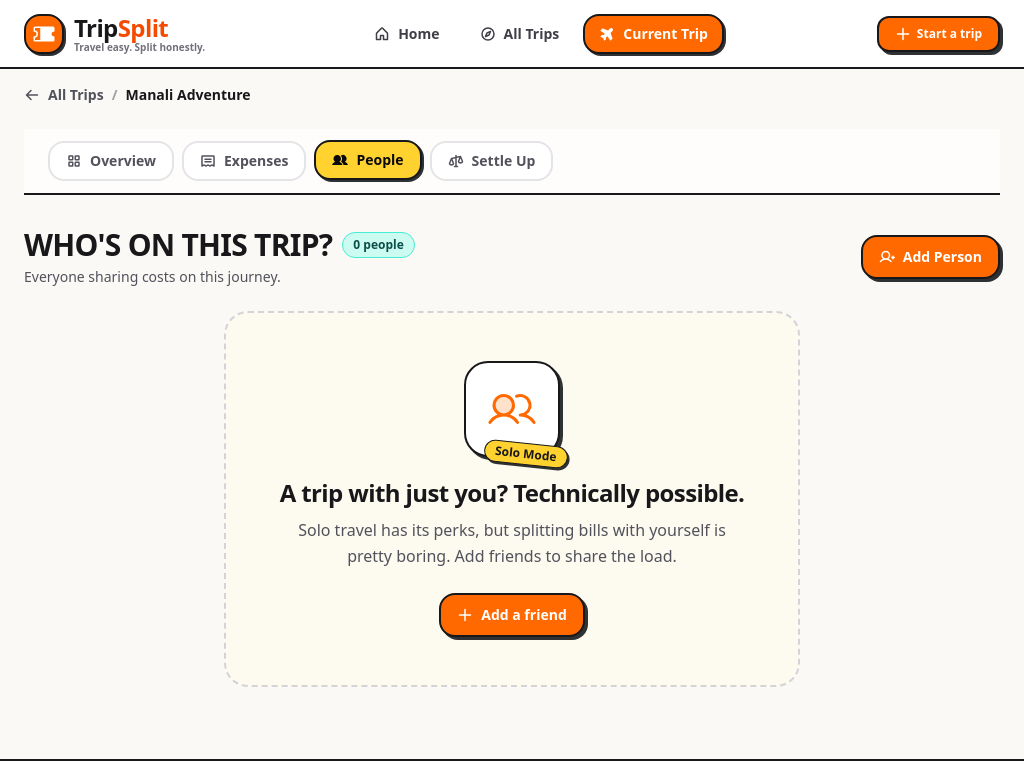
Test: People / Participant Management UI Flow › adds a participant and renders their card with balance placeholder
This screenshot has width=1024, height=768.
# Open add modal
Step 1. Click the button "Add a friend" → coordinates (512, 615), box [439, 593, 585, 637]
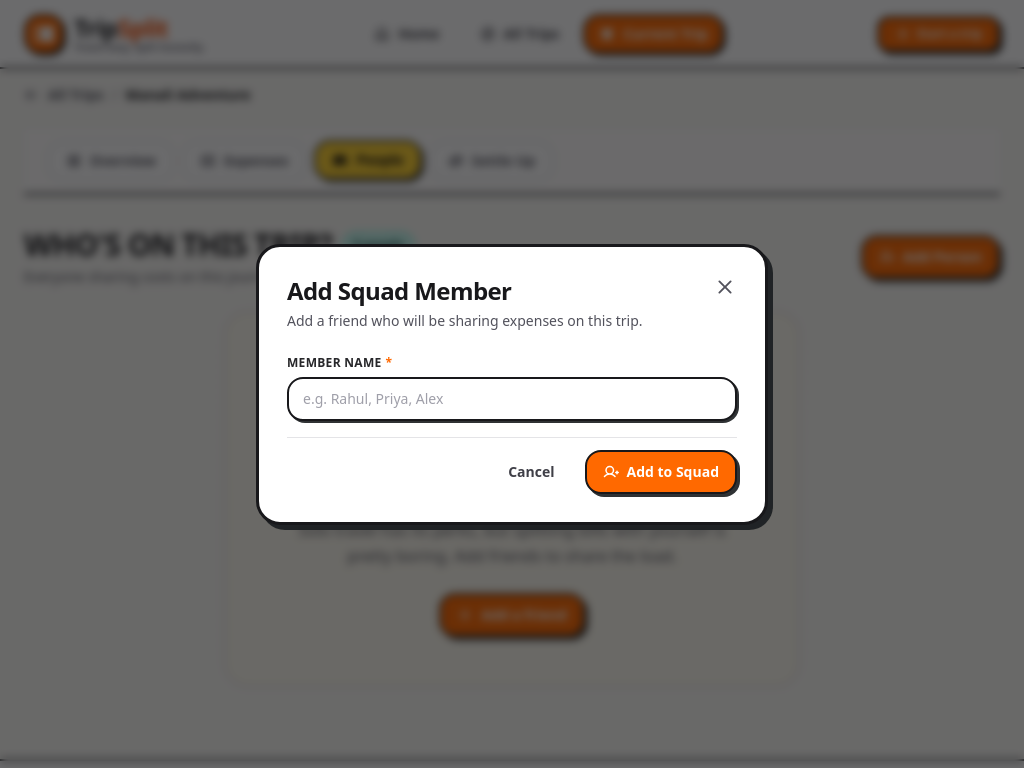
Check: the heading "Add Squad Member" is shown, box [287, 274, 511, 306]
# Enter name
Step 2. Type "Pkm" into the field labelled "Member Name *" → coordinates (512, 398), box [287, 376, 737, 420]
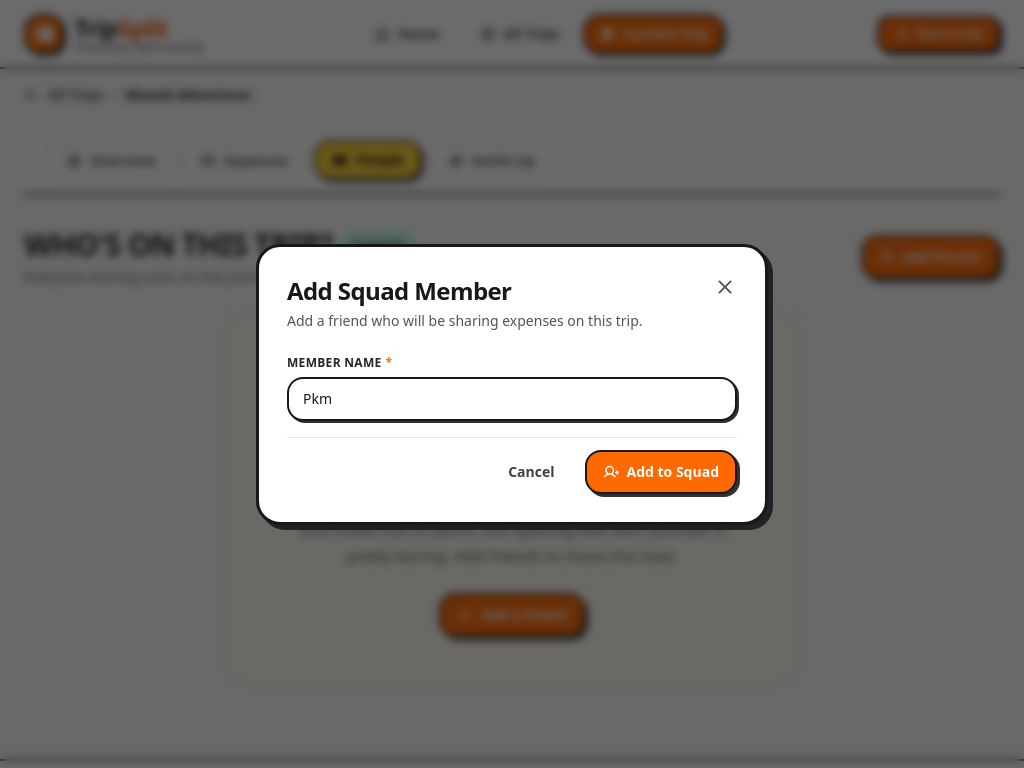
Step 3. Click the button "Add to Squad" → coordinates (661, 472), box [584, 450, 737, 494]
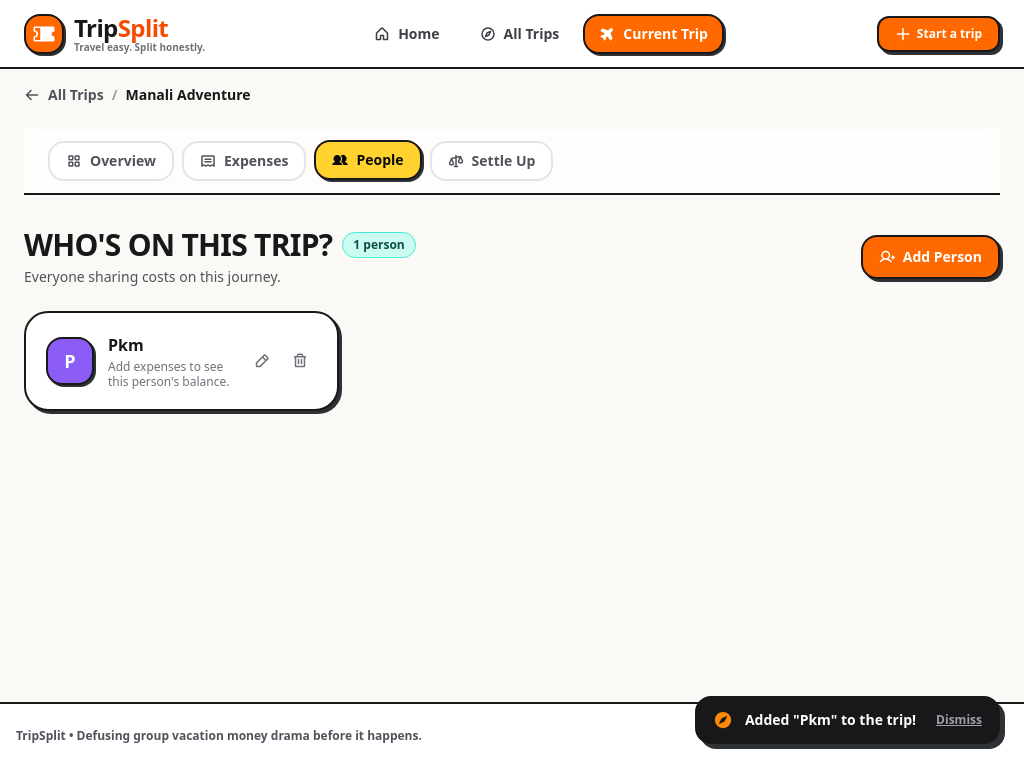
Check: the heading "Pkm" is shown, box [108, 334, 144, 356]
Check: the text "Add expenses to see this person's balance." is shown, box [108, 359, 233, 389]
Check: the text "1 person" is shown, box [353, 237, 405, 253]
